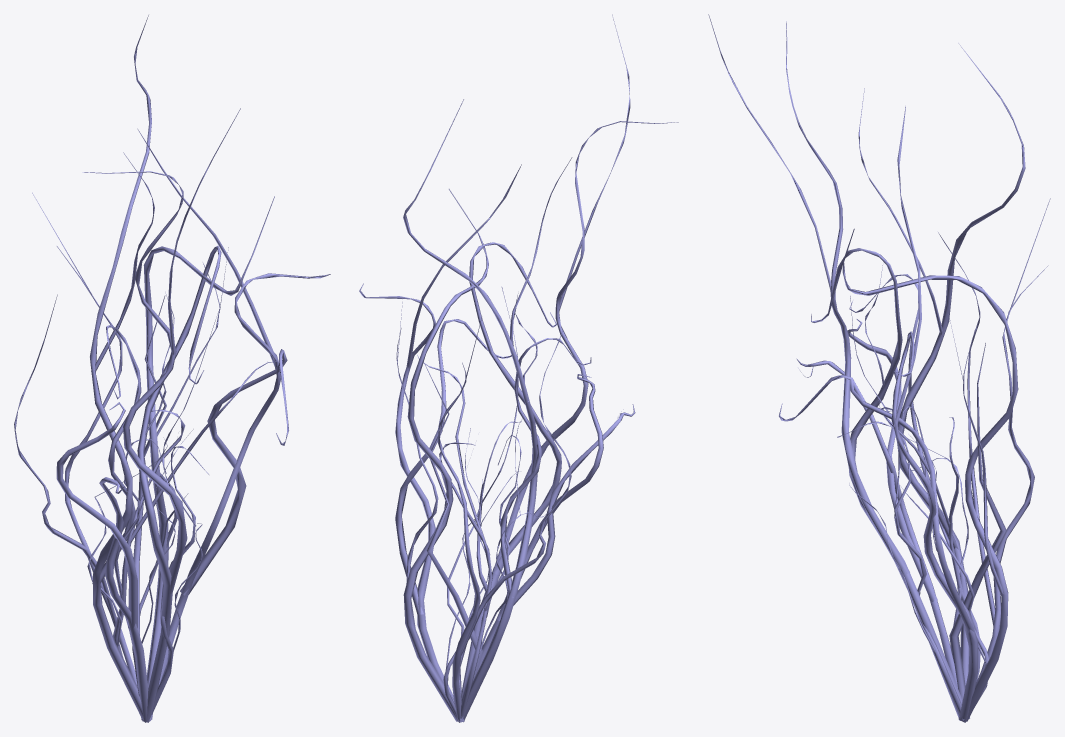
Rendered from grass_2.fbx.
The picture shows the model from 3 angles, left to right: view 1: azimuth 30°, elevation 25°; view 2: azimuth 150°, elevation 25°; view 3: azimuth 270°, elevation 25°; orthographic projection. The views are drawn at different scales.
Parts seen in each view (by area): view 1: grass_bundle_2; view 2: grass_bundle_2; view 3: grass_bundle_2.
Boxes of the visible parts, left/top/right/bottom form: grass_bundle_2: left=14, top=15, right=330, bottom=722; grass_bundle_2: left=359, top=14, right=678, bottom=722; grass_bundle_2: left=708, top=14, right=1050, bottom=722.
Bounding box in the file's own units: 149 × 335 × 151.
